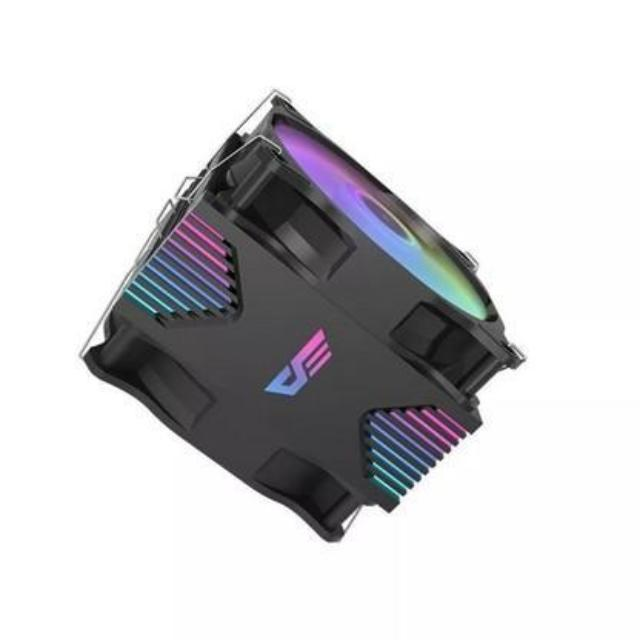CPU_Fan: (77, 88, 529, 544)
